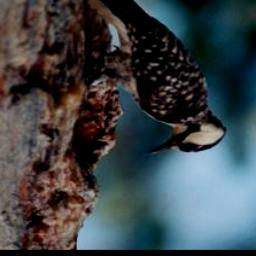Woodpecker: (72, 0, 243, 159)
